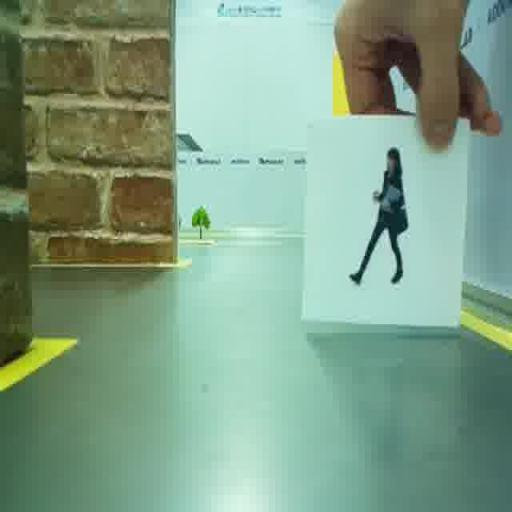human: (350, 147, 408, 283)
